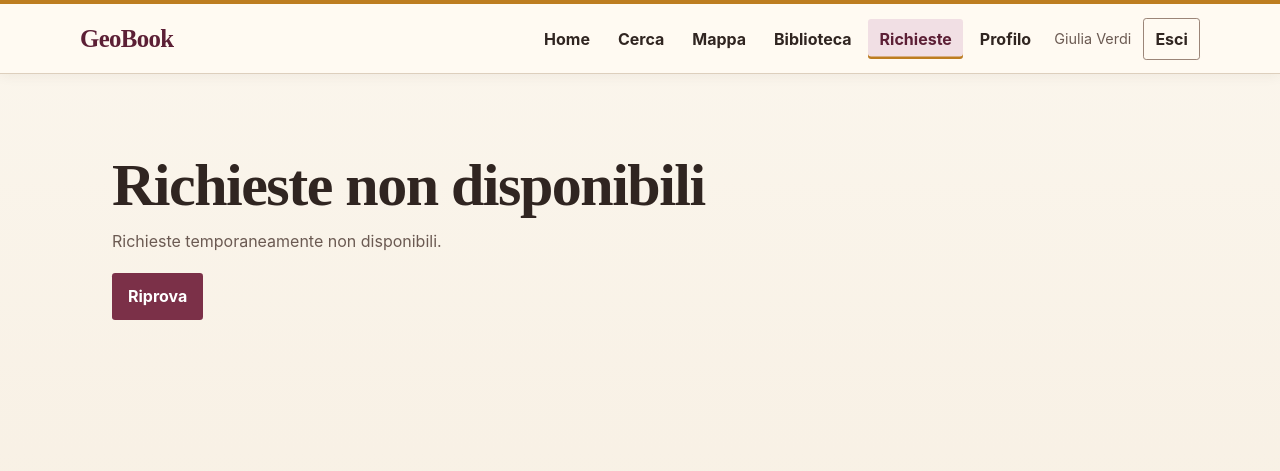
Test case: loan request UI › renders empty lists and recovers after a loading error
This screenshot has width=1280, height=471.
Click the button "Riprova". click: (158, 296)
box: [112,273,203,320]
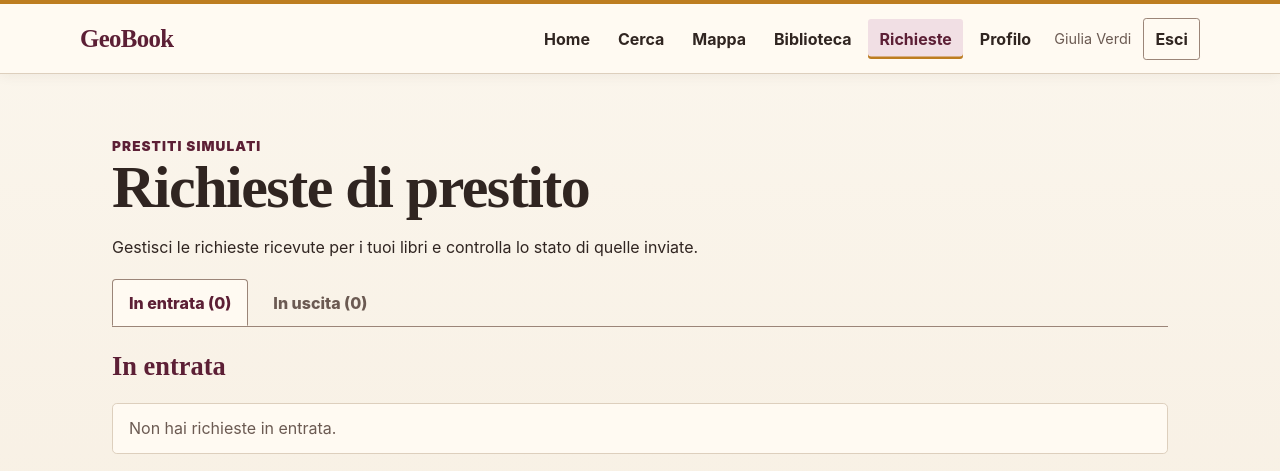
Click the tab "In uscita (0)". click: (320, 303)
box: [256,279,384,326]
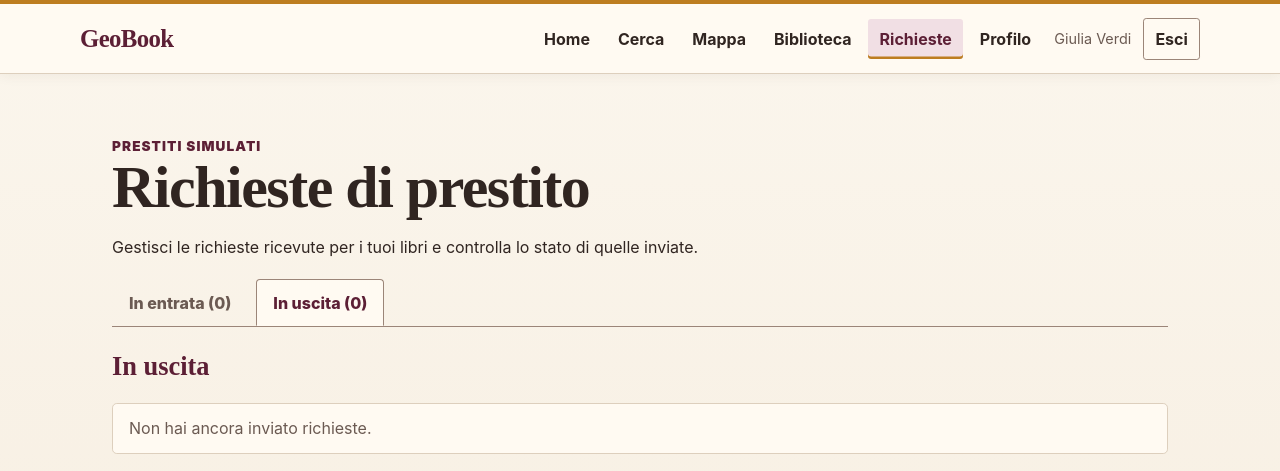
Result: the text "Non hai ancora inviato richieste." is shown at [112,403,1168,454]
